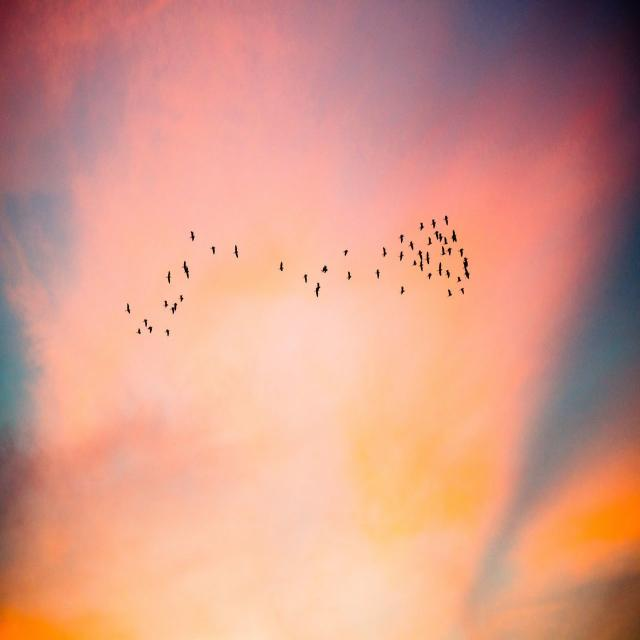bird: (184, 262, 193, 280), (313, 282, 322, 298), (169, 300, 179, 314), (423, 252, 432, 267), (125, 303, 133, 316), (437, 262, 444, 276), (165, 270, 172, 284), (398, 252, 406, 264), (436, 232, 444, 244), (233, 244, 240, 257), (450, 231, 458, 242), (142, 318, 150, 329), (162, 299, 170, 310), (464, 267, 471, 279), (381, 246, 389, 256), (320, 265, 328, 275), (418, 258, 424, 271), (302, 273, 309, 284), (399, 233, 406, 244), (460, 287, 468, 296), (178, 292, 184, 304), (190, 231, 197, 241), (408, 238, 415, 248), (444, 245, 451, 255), (446, 289, 453, 298), (457, 247, 464, 256), (210, 245, 216, 255), (443, 216, 449, 226), (400, 287, 406, 297), (278, 262, 284, 272), (375, 269, 381, 279), (432, 220, 438, 230), (164, 328, 170, 338), (417, 248, 423, 258), (418, 224, 425, 232), (425, 237, 431, 246), (426, 270, 432, 279), (458, 288, 464, 297), (346, 272, 352, 280), (147, 324, 153, 332), (342, 248, 348, 255), (456, 274, 462, 281), (439, 247, 444, 255), (463, 256, 468, 264), (136, 327, 140, 336), (446, 270, 450, 278), (411, 260, 415, 266)
